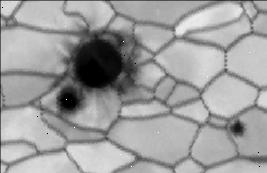good_void: (61, 28, 145, 99), (50, 83, 89, 119), (228, 114, 248, 140)
